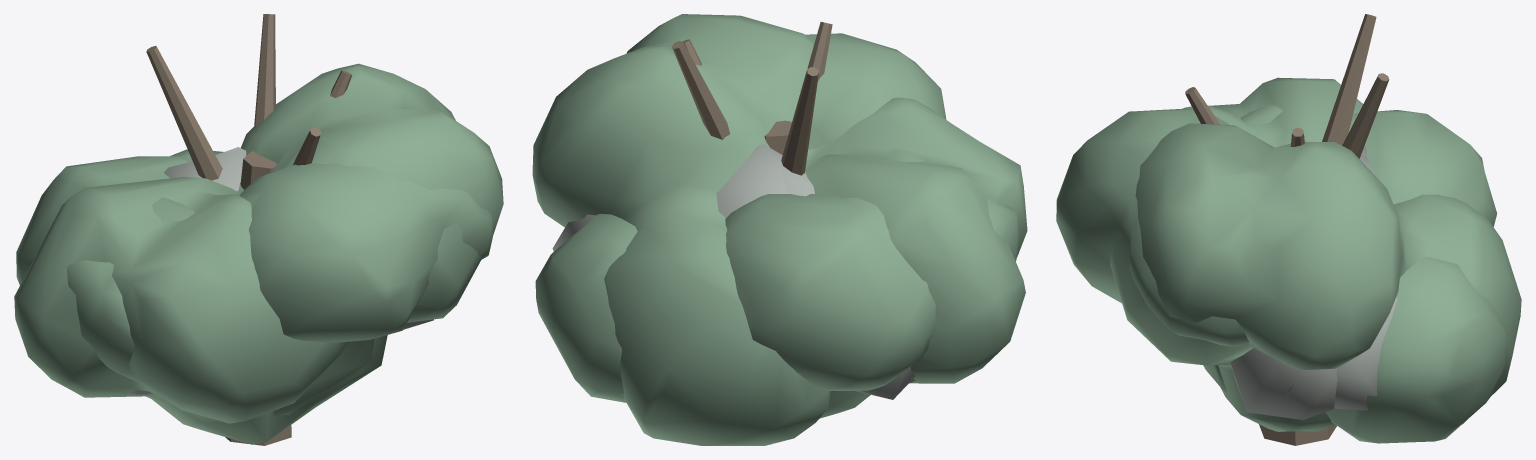
Rendered from environment.glb.
The picture shows the model from 3 angles, left to right: view 1: azimuth 30°, elevation 25°; view 2: azimuth 150°, elevation 25°; view 3: azimuth 270°, elevation 25°; orthographic projection. The views are drawn at different scales.
Parts seen in each view (by area): view 1: POLISH_CANOPY_ALT, POLISH_CANOPY, POLISH_TRUNK, POLISH_BOULDER; view 2: POLISH_CANOPY_ALT, POLISH_CANOPY, POLISH_TRUNK, POLISH_BOULDER_ALT, POLISH_BOULDER; view 3: POLISH_CANOPY_ALT, POLISH_CANOPY, POLISH_TRUNK, POLISH_BOULDER_ALT, POLISH_BOULDER.
Boxes of the visible parts, x1,y1,x2,y2 form: POLISH_CANOPY_ALT: (14,63,503,444); POLISH_CANOPY: (16,156,492,415); POLISH_TRUNK: (146,14,352,445); POLISH_BOULDER: (130,149,246,394); POLISH_CANOPY_ALT: (532,14,1027,445); POLISH_CANOPY: (535,33,1019,402); POLISH_TRUNK: (672,22,832,175); POLISH_BOULDER_ALT: (716,144,914,399); POLISH_BOULDER: (552,144,915,392); POLISH_CANOPY_ALT: (1110,77,1521,431); POLISH_CANOPY: (1056,104,1505,443); POLISH_TRUNK: (1185,14,1389,445); POLISH_BOULDER_ALT: (1230,155,1394,419); POLISH_BOULDER: (1284,146,1397,410).
Bounding box in the file's own units: 0.5057 × 0.4152 × 0.4517.
